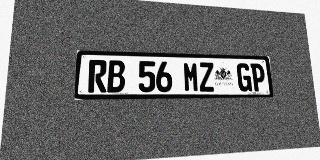5: (139, 61, 156, 92)
6: (156, 61, 172, 92)
B: (107, 60, 125, 92)
G: (236, 63, 252, 91)
M: (183, 62, 199, 92)
P: (250, 63, 266, 91)
R: (88, 60, 107, 93)
Z: (199, 62, 215, 92)
